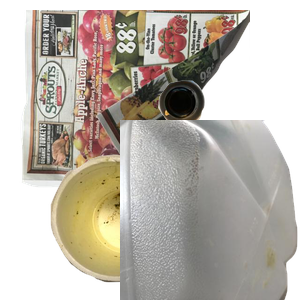glass: (156, 78, 300, 197)
paper: (18, 10, 258, 190)
plastic: (120, 120, 300, 300)
trash: (48, 152, 219, 300)
